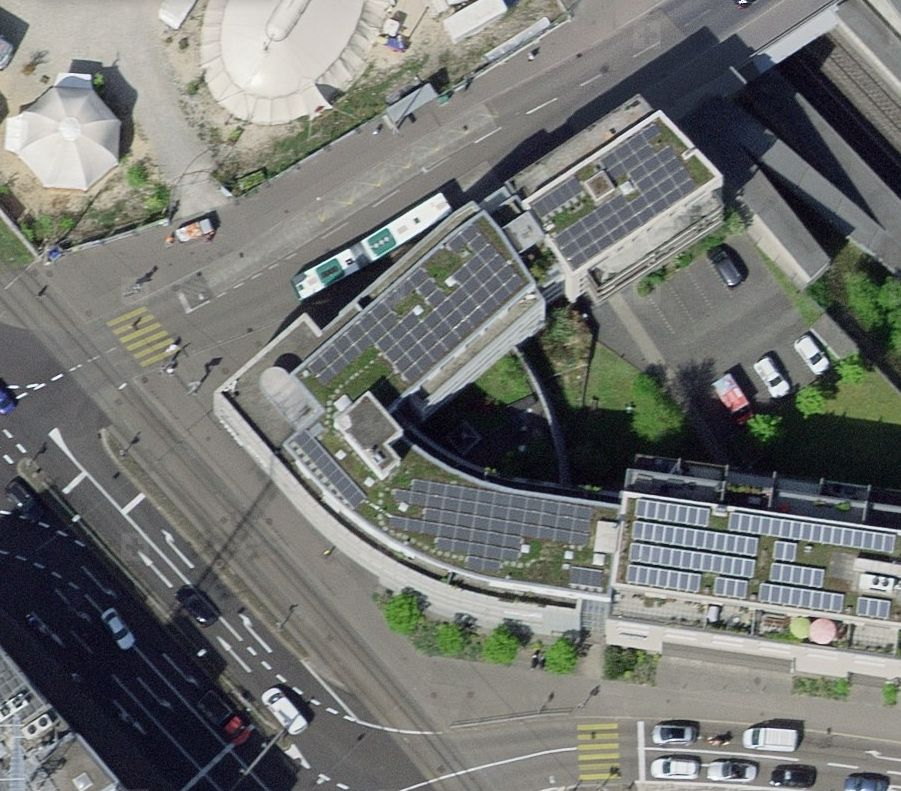solar: (304, 221, 525, 385), (627, 498, 897, 621), (530, 124, 700, 273), (387, 478, 603, 589), (295, 431, 368, 510)
